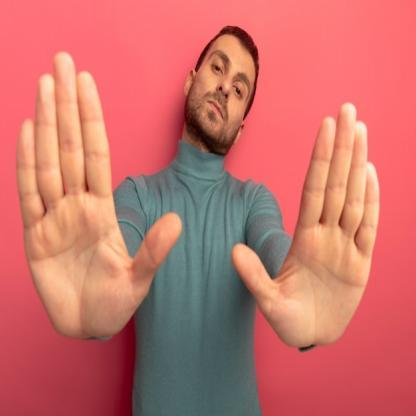stop: (13, 46, 184, 346), (230, 101, 381, 350)
